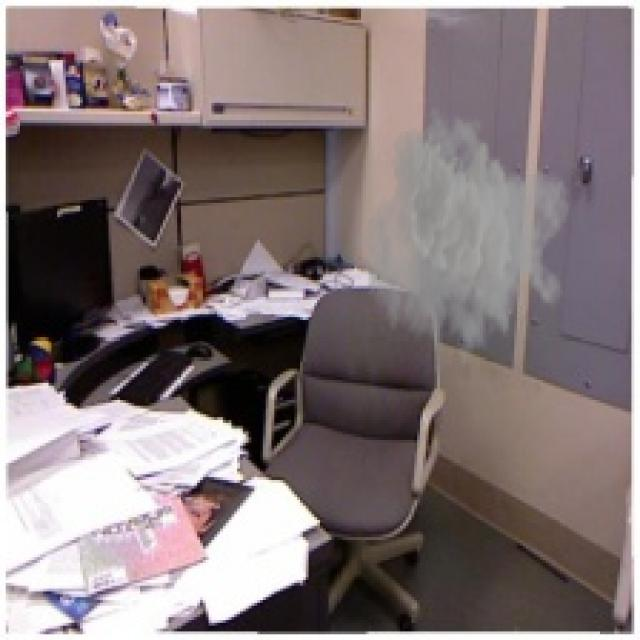smoke: (363, 103, 571, 377)
